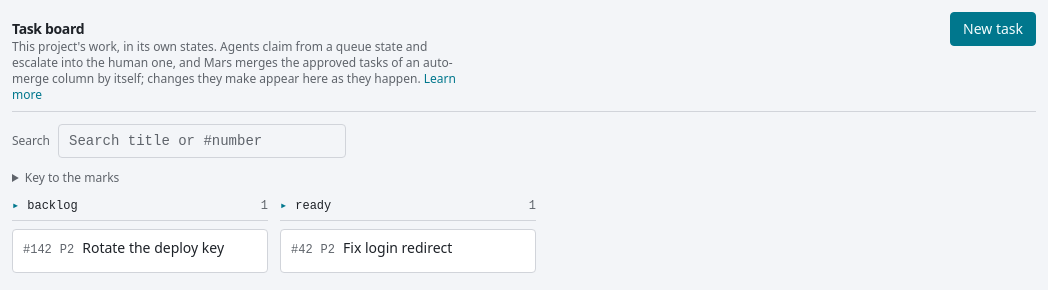
Test: TaskBoard search › matches the exact number for #42
The width and height of the screenshot is (1048, 290).
Type "#42" into the search field named "Search tasks" at (202,141), box [58, 124, 346, 158]
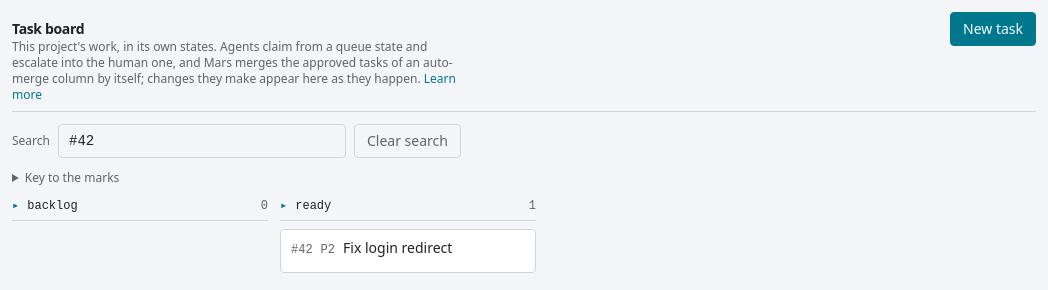
Expected: the heading "Fix login redirect" is shown, [343, 238, 452, 257]
Result: the link "Rotate the deploy key" is gone
